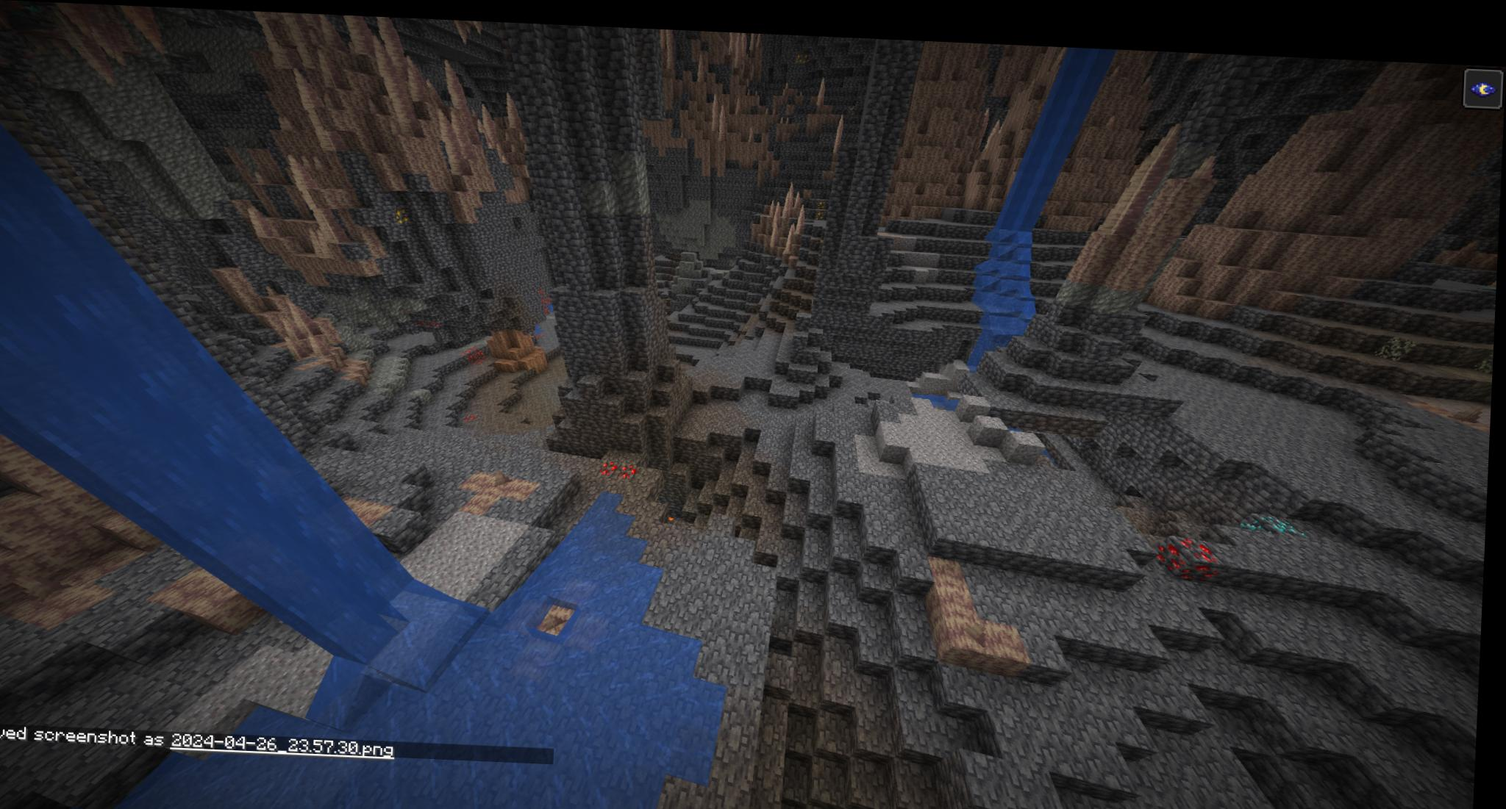diamond ore: (1239, 492, 1307, 536)
gold ore: (391, 195, 417, 227), (809, 189, 833, 212)
redstone ore: (1157, 523, 1222, 575), (602, 452, 641, 477), (533, 279, 558, 318), (464, 339, 495, 364), (460, 402, 487, 425)
